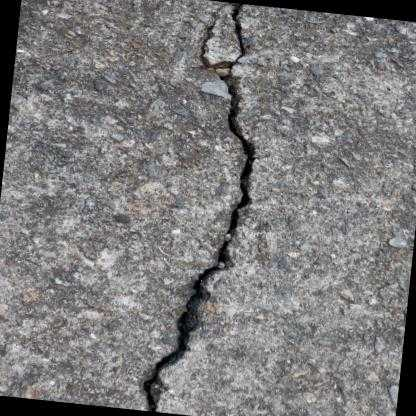crack: (142, 2, 255, 412)
